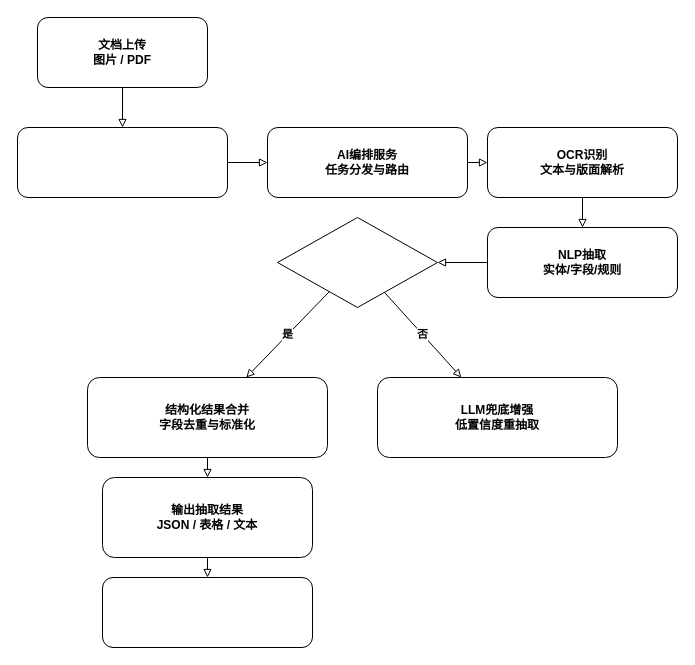
The diagram is 695 pixels wide and 665 high, and some of its shapes have lost their labels. The centre of each missing label's shape, as x and y in pixels:
"文件与元数据入库 MySQL + MinIO" belongs at (x=122, y=162).
"置信度判断" belongs at (x=357, y=262).
"进入人工校对" belongs at (x=207, y=612).
